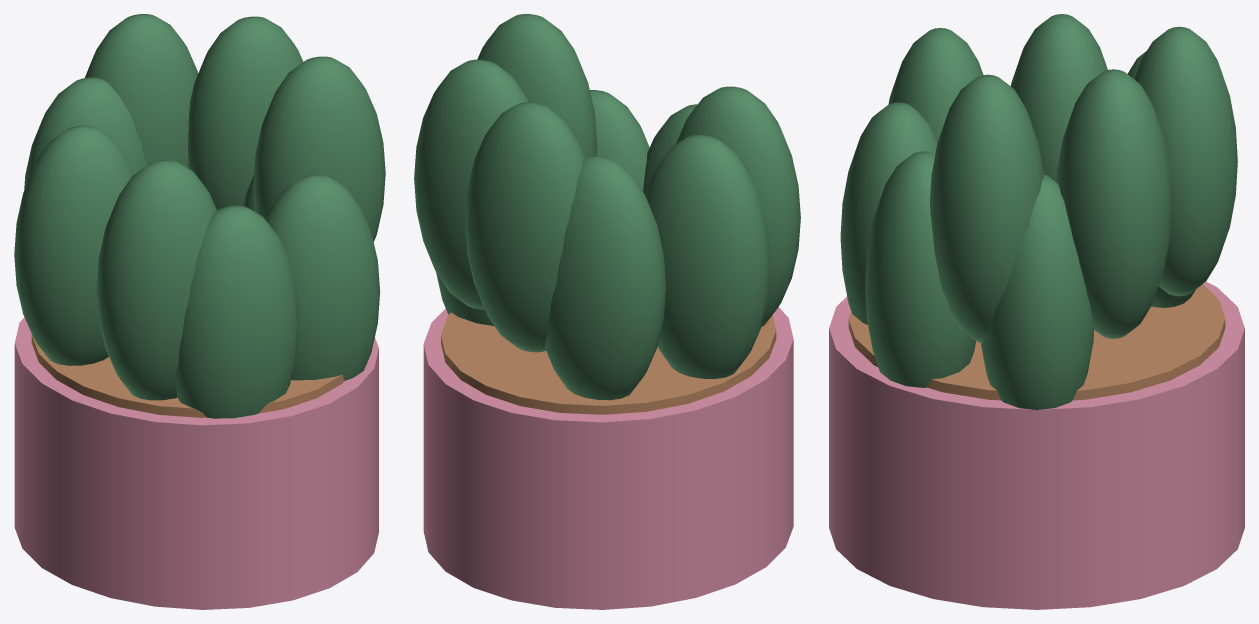
Rendered from succulent.glb.
The picture shows the model from 3 angles, left to right: view 1: azimuth 30°, elevation 25°; view 2: azimuth 150°, elevation 25°; view 3: azimuth 270°, elevation 25°; orthographic projection. The views are drawn at different scales.
Visible parts, largest first — view 1: succulent; view 2: succulent; view 3: succulent.
Boxes of the visible parts, x1,y1,x2,y2 form: succulent: [14, 14, 385, 609]; succulent: [414, 14, 800, 609]; succulent: [829, 14, 1244, 609].
Size of the model in its own units: 9 by 12 by 9.
